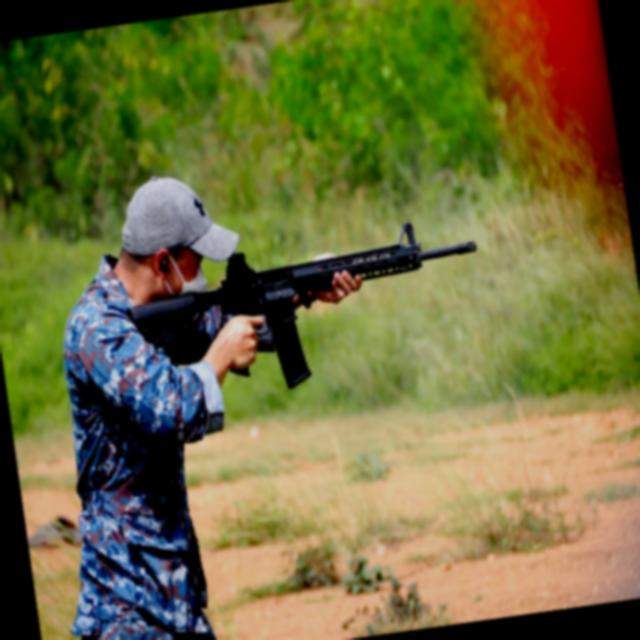m16: (102, 178, 525, 434)
